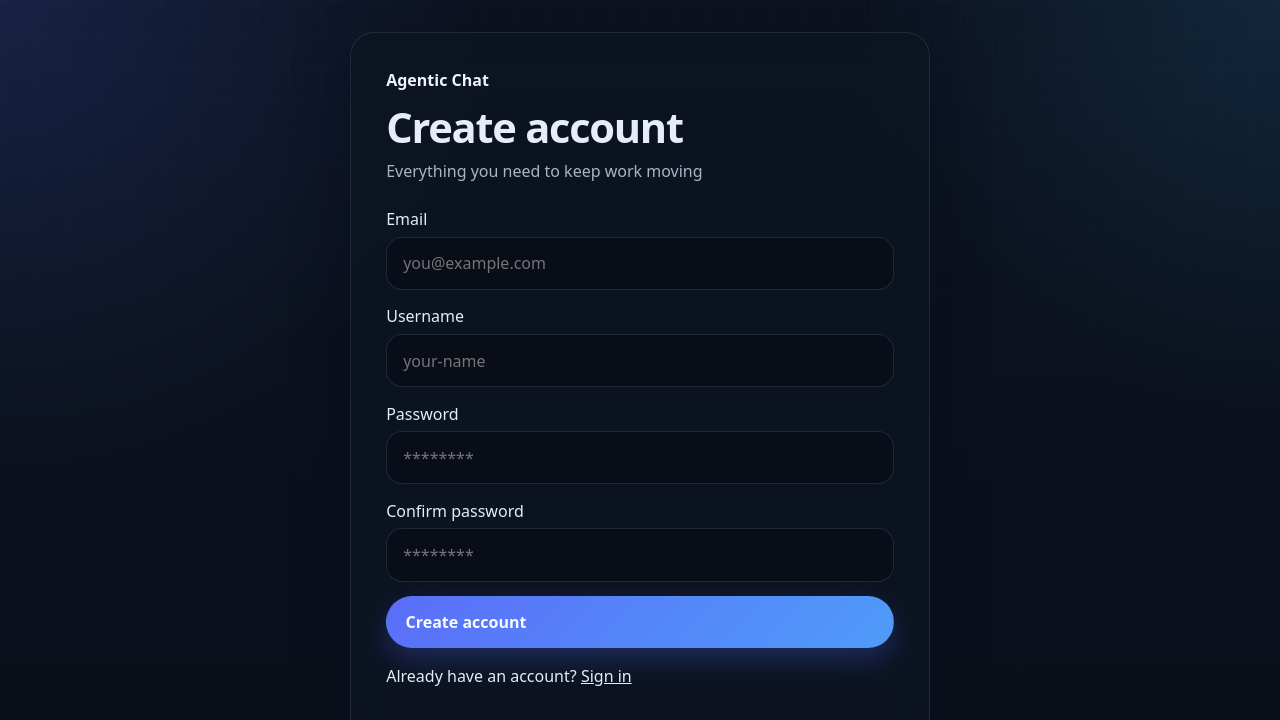
it: App routes › creates an account from the registration page and enters the workspace
Type "new.user@example.com" into the field labelled "Email" at (640, 264), box [386, 237, 894, 290]
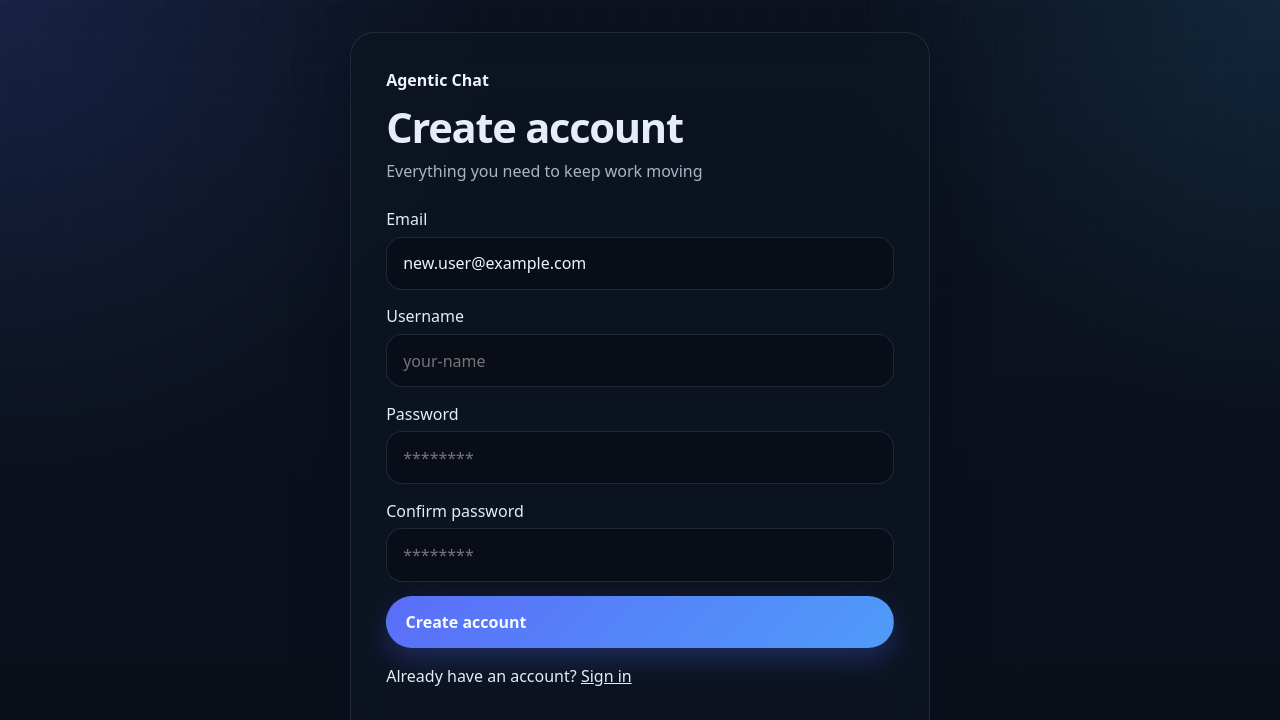
Type "new.chat.user" into the field labelled "Username" at (640, 361), box [386, 334, 894, 387]
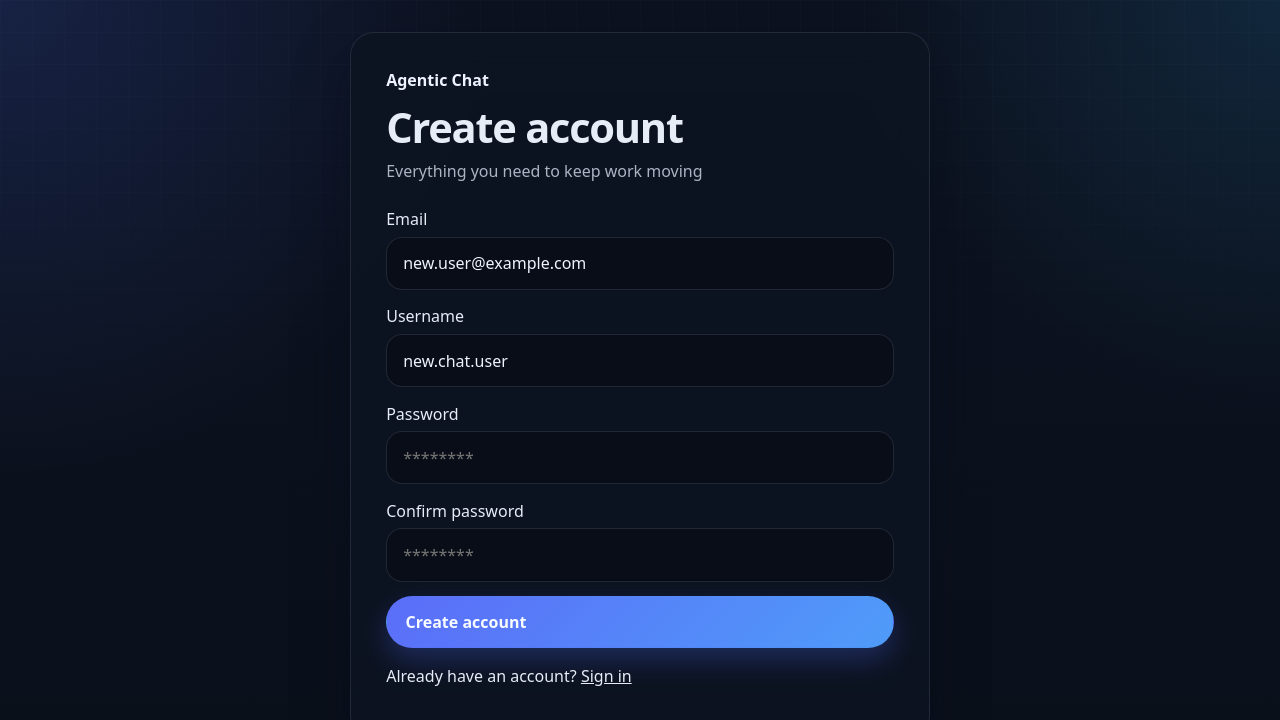
Type "correct-horse-battery-staple" into the password field labelled "Password" at (640, 458), box [386, 431, 894, 484]
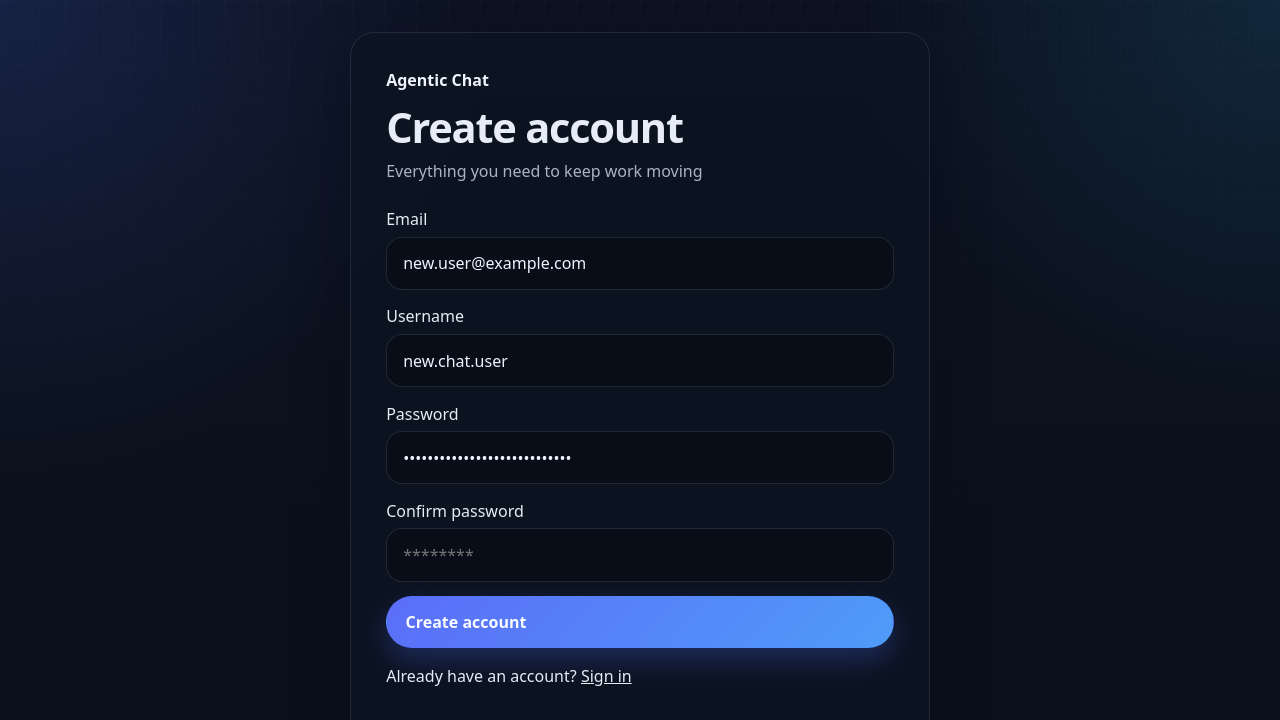
Type "correct-horse-battery-staple" into the password field labelled "Confirm password" at (640, 555), box [386, 528, 894, 582]
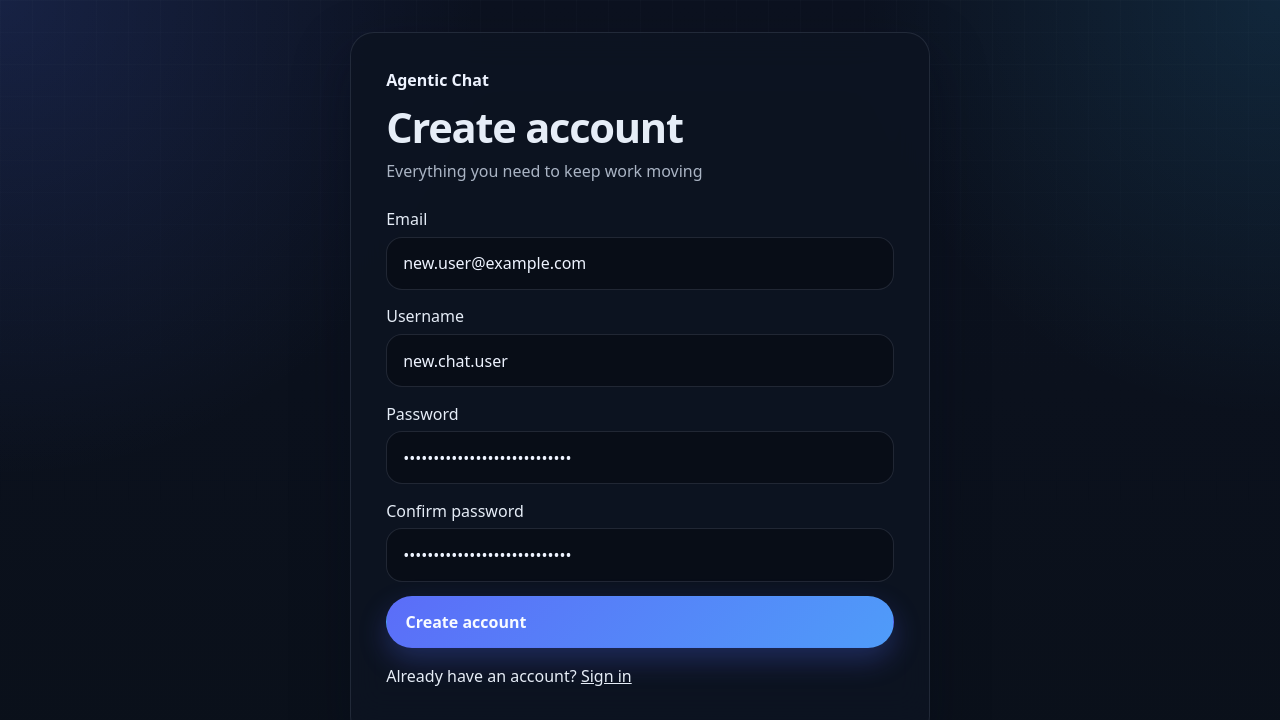
Click the button "Create account" at (466, 622), box [386, 596, 894, 648]
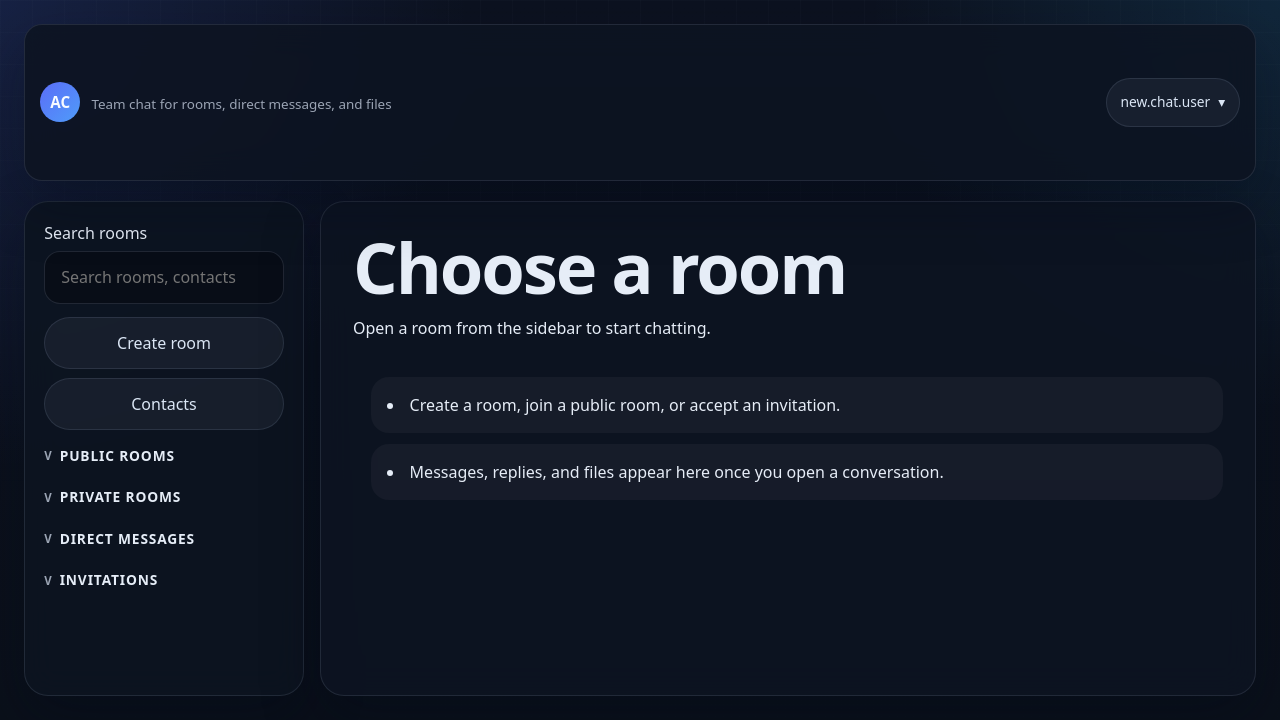
Expected: the heading "Choose a room" is shown, [353, 219, 846, 315]
Expected: the text "new.chat.user" is shown, [1120, 92, 1210, 113]
